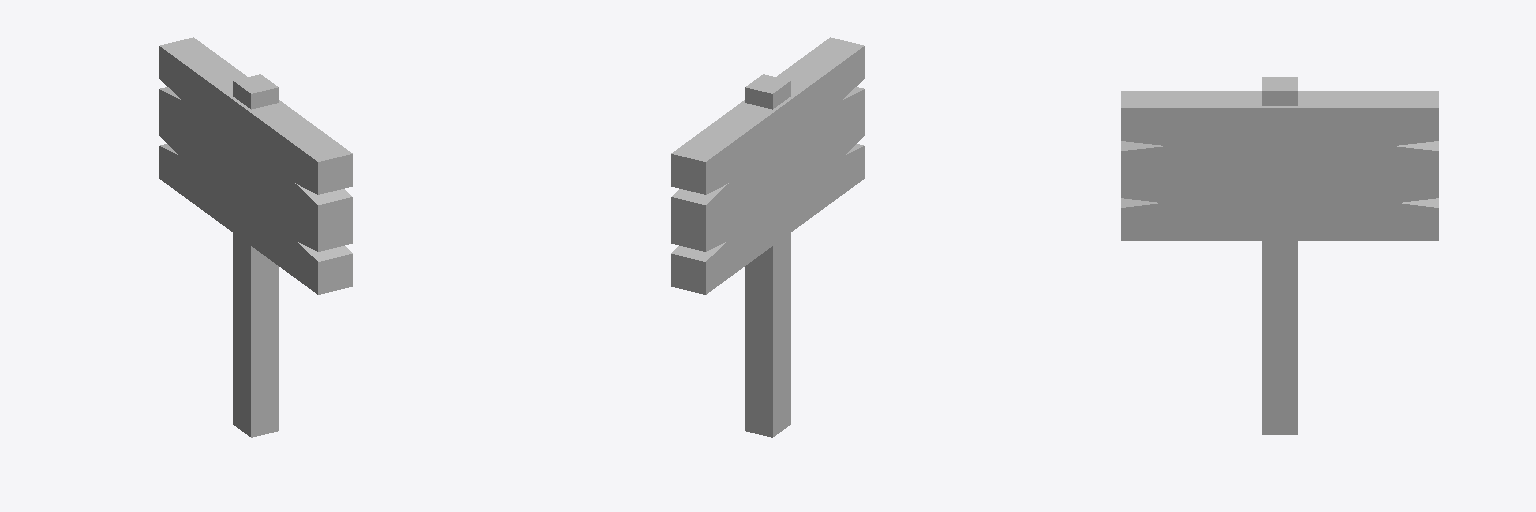
Rendered from Sign1.obj.
3 views of the same model, side by side, from view 1: azimuth 30°, elevation 25°; view 2: azimuth 150°, elevation 25°; view 3: azimuth 270°, elevation 25° (orthographic).
Visible parts, largest first — view 1: Placa_Cube.001, Cabo_Cube; view 2: Placa_Cube.001, Cabo_Cube; view 3: Placa_Cube.001, Cabo_Cube.
Boxes of the visible parts, box(x1,y1,x2,y2) form: Placa_Cube.001: box(159, 37, 352, 294); Cabo_Cube: box(233, 74, 278, 437); Placa_Cube.001: box(671, 37, 864, 294); Cabo_Cube: box(745, 74, 790, 437); Placa_Cube.001: box(1121, 91, 1438, 240); Cabo_Cube: box(1262, 77, 1297, 434).
Size of the model in its own units: 0.1071 by 1.02 by 0.8528.